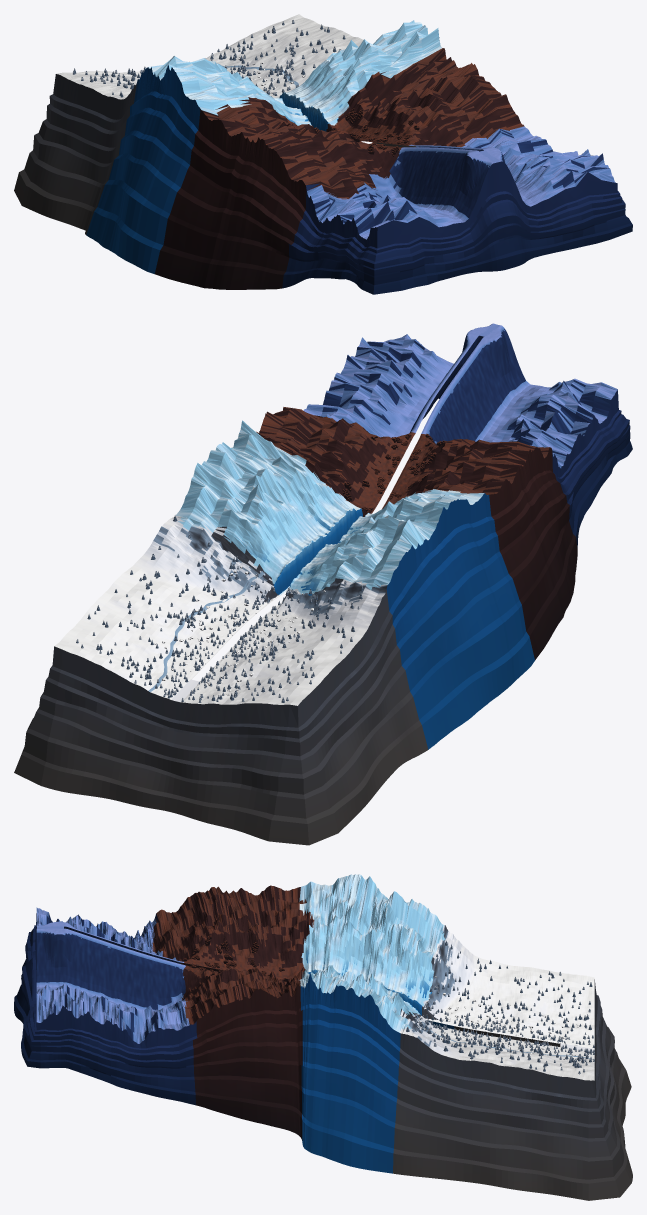
The picture shows the model from 3 angles, top to bottom: view 1: azimuth 30°, elevation 25°; view 2: azimuth 150°, elevation 25°; view 3: azimuth 270°, elevation 25°; orthographic projection. The views are drawn at different scales.
Parts seen in each view (by area): view 1: Z4_Terrain_R_4000, Z2_Terrain_R_1500, Z3_Terrain_R_2000, Z3_Terrain_R_2500, Z4_Terrain_L_4000, Z4_Terrain_R_3000, Z3_Terrain_L_2500, Z1_Terrain_R_0, Z1_Terrain_R_-420, Z4_Terrain_R_3500, Z2_Terrain_R_1000, Z2_Terrain_L_1500 (+13 smaller); view 2: Z1_Terrain_R_-420, Z1_Terrain_L_-420, Z2_Terrain_R_1000, Z2_Terrain_R_1500, Z1_Terrain_R_500, Z3_Terrain_R_2000, Z2_Terrain_L_1000, Z4_Terrain_R_3500, Z1_Terrain_R_0, Z1_Terrain_L_500, Z2_Terrain_L_1500, Z1_Terrain_L_0 (+16 smaller); view 3: Z1_Terrain_L_500, Z2_Terrain_L_1000, Z1_Terrain_L_-420, Z4_Terrain_L_3000, Z3_Terrain_L_2500, Z1_Terrain_L_0, Z4_Terrain_L_3500, Z2_Terrain_L_1500, Z2_Terrain_R_1500, Z4_Terrain_L_4000, Z2_Terrain_R_1000, Z3_Terrain_R_2000 (+15 smaller).
Boxes of the visible parts, x1,y1,x2,y2 form: Z4_Terrain_R_4000: (345,150,508,294); Z2_Terrain_R_1500: (108,64,311,273); Z3_Terrain_R_2000: (155,104,316,289); Z3_Terrain_R_2500: (219,129,402,289); Z4_Terrain_L_4000: (482,147,632,267); Z4_Terrain_R_3000: (277,147,442,288); Z3_Terrain_L_2500: (365,63,512,145); Z1_Terrain_R_0: (47,83,134,229); Z1_Terrain_R_-420: (14,71,141,216); Z4_Terrain_R_3500: (309,148,476,279); Z2_Terrain_R_1000: (88,56,285,249); Z2_Terrain_L_1500: (301,26,441,131); Z1_Terrain_R_-420: (164,671,365,845); Z1_Terrain_L_-420: (14,616,200,808); Z2_Terrain_R_1000: (289,515,477,747); Z2_Terrain_R_1500: (335,489,534,711); Z1_Terrain_R_500: (246,579,430,768); Z3_Terrain_R_2000: (381,452,570,660); Z2_Terrain_L_1000: (175,444,320,596); Z4_Terrain_R_3500: (448,339,612,514); Z1_Terrain_R_0: (212,634,396,805); Z1_Terrain_L_500: (120,516,278,632); Z2_Terrain_L_1500: (219,420,362,549); Z1_Terrain_L_0: (84,576,236,669); Z1_Terrain_L_500: (393,1014,482,1183); Z2_Terrain_L_1000: (332,971,420,1173); Z1_Terrain_L_-420: (543,1045,632,1200); Z4_Terrain_L_3000: (127,948,210,1109); Z3_Terrain_L_2500: (185,965,271,1125); Z1_Terrain_L_0: (480,1035,543,1193); Z4_Terrain_L_3500: (68,929,128,1089); Z2_Terrain_L_1500: (302,965,350,1159); Z2_Terrain_R_1500: (302,874,383,979); Z4_Terrain_L_4000: (14,928,68,1068); Z2_Terrain_R_1000: (365,891,450,1028); Z3_Terrain_R_2000: (217,885,302,979).
Bounding box in the file's own units: 2857 × 1846 × 4996.
Materials: 1 (1 with a texture image).
